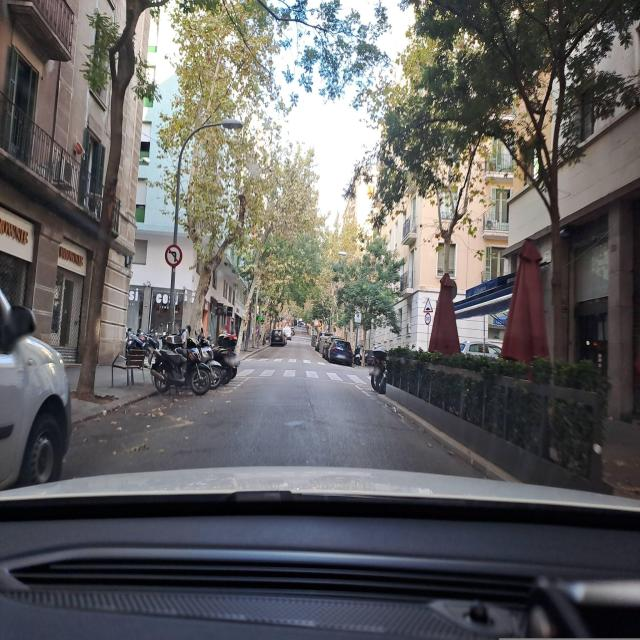bike: (151, 332, 211, 396), (185, 333, 227, 387)
car: (0, 216, 72, 497), (327, 338, 354, 367), (317, 331, 334, 354), (322, 338, 336, 359), (270, 330, 286, 347), (283, 327, 292, 340)
